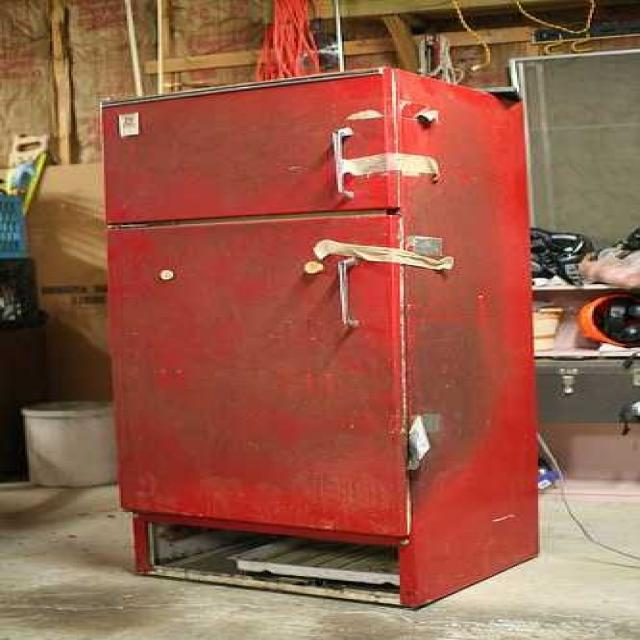refrigerator: (104, 67, 411, 614)
